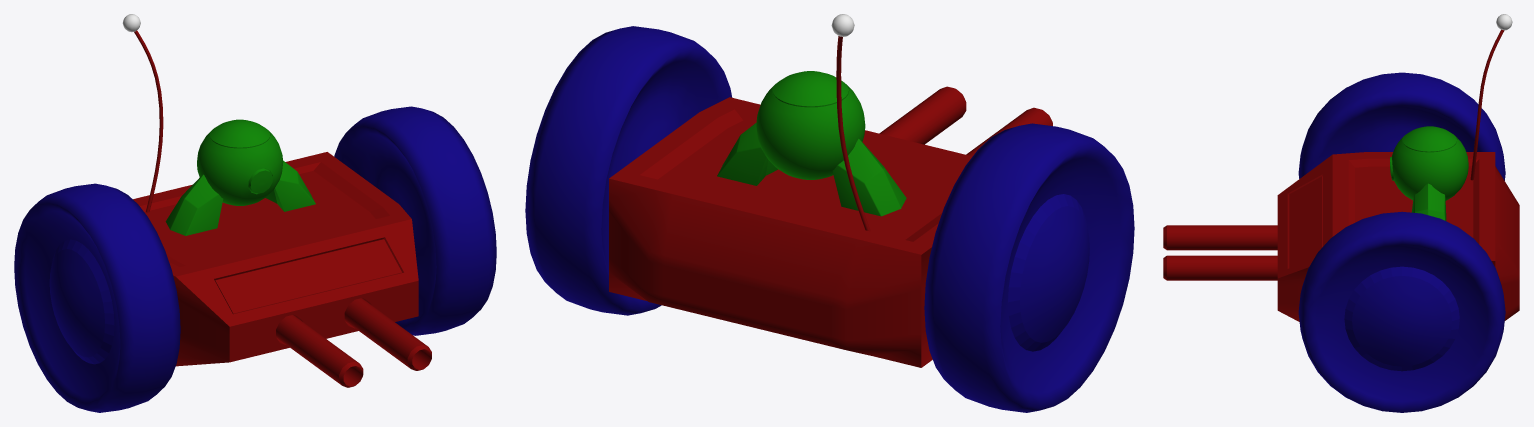
Rendered from Ennemi1_fini.fbx.
3 renders of one model, left to right at view 1: azimuth 30°, elevation 25°; view 2: azimuth 150°, elevation 25°; view 3: azimuth 270°, elevation 25°, orthographic. The views are drawn at different scales.
Visible parts, largest first — view 1: Box001, Object, Sphere001, Sphere002; view 2: Box001, Object, Sphere001, Sphere002; view 3: Sphere001, Box001, Object, Sphere002.
Boxes of the visible parts, box(x1,y1,x2,y2) form: Box001: box(133, 30, 431, 387); Object: box(14, 183, 180, 412); Sphere001: box(334, 106, 496, 335); Sphere002: box(165, 119, 315, 235); Box001: box(609, 36, 1052, 367); Object: box(924, 123, 1134, 412); Sphere001: box(525, 26, 732, 315); Sphere002: box(717, 71, 906, 216); Sphere001: box(1298, 211, 1505, 412); Box001: box(1163, 29, 1519, 321); Object: box(1298, 72, 1505, 180); Sphere002: box(1390, 126, 1468, 220).
Bounding box in the file's own units: 1.54 × 1.25 × 1.38.
